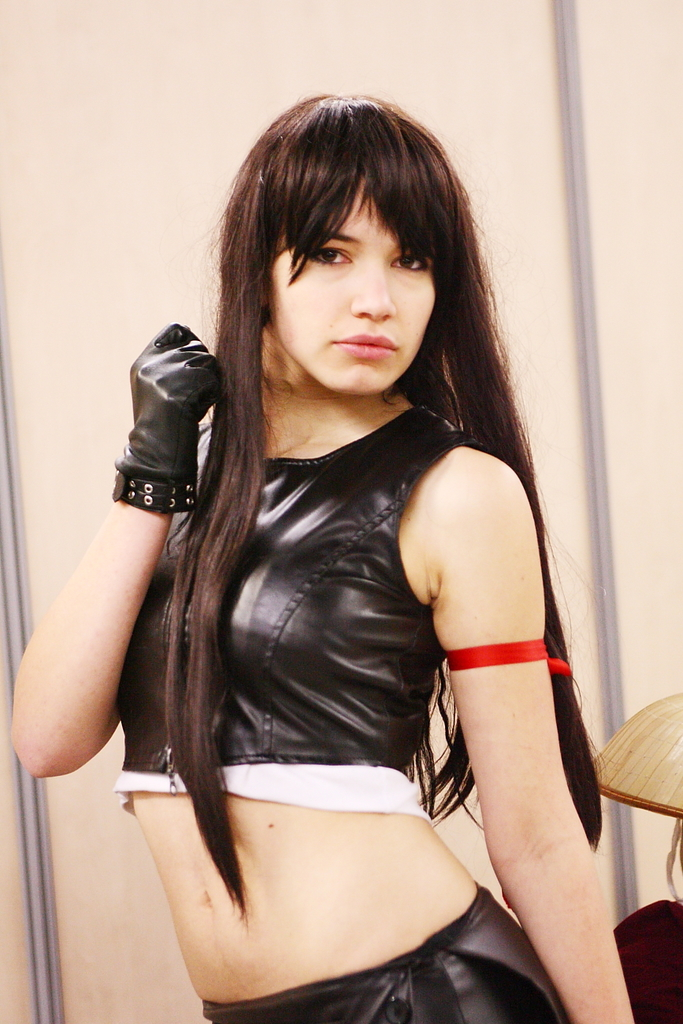Human_hand: (129, 319, 220, 485)
